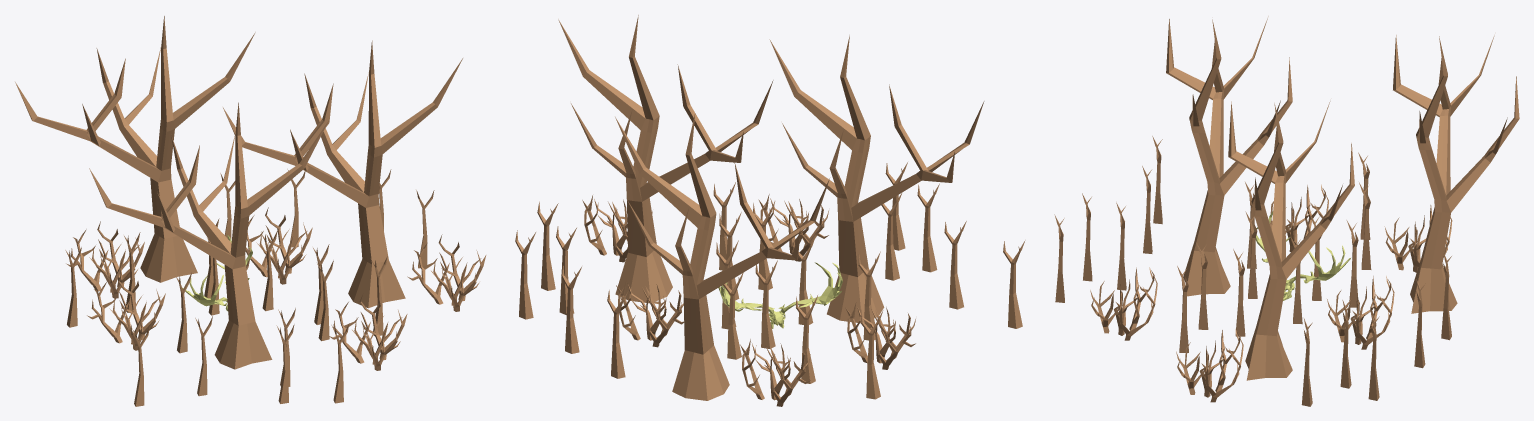
Rendered from DeforestationModel.glb.
3 renders of one model, left to right at view 1: azimuth 30°, elevation 25°; view 2: azimuth 150°, elevation 25°; view 3: azimuth 270°, elevation 25°, orthographic. The views are drawn at different scales.
Visible parts, largest first — view 1: Tree_average_bare, Tree_average_bare.001, Tree_average_bare.002, Bush_average_bare.004, Bush_average_bare.001, Bush_average_bare, Bush_average_bare.002, Bush_average_bare.003, antil_skull1, Tree_small_bare.003, Tree_small_bare.006, Tree_small_bare.002 (+7 smaller); view 2: Tree_average_bare.002, Tree_average_bare, Tree_average_bare.001, Bush_average_bare.002, Bush_average_bare.003, Bush_average_bare.001, antil_skull1, Bush_average_bare, Bush_average_bare.004, Tree_small_bare.017, Tree_small_bare.014, Tree_small_bare.010 (+15 smaller); view 3: Tree_average_bare.001, Tree_average_bare.002, Tree_average_bare, Bush_average_bare, Bush_average_bare.004, Bush_average_bare.003, Bush_average_bare.002, antil_skull1, Bush_average_bare.001, Tree_small_bare.001, Tree_small_bare.014, Tree_small_bare.004 (+14 smaller).
Boxes of the visible parts, x1,y1,x2,y2 form: Tree_average_bare: (89, 102, 329, 369); Tree_average_bare.001: (223, 40, 462, 308); Tree_average_bare.002: (15, 16, 255, 282); Bush_average_bare.004: (407, 234, 486, 311); Bush_average_bare.001: (87, 273, 165, 350); Bush_average_bare: (329, 293, 407, 370); Bush_average_bare.002: (66, 221, 144, 298); Bush_average_bare.003: (245, 207, 312, 284); antil_skull1: (182, 235, 252, 311); Tree_small_bare.003: (175, 272, 191, 353); Tree_small_bare.006: (65, 247, 81, 327); Tree_small_bare.002: (317, 260, 333, 341); Tree_average_bare.002: (615, 113, 829, 400); Tree_average_bare: (769, 35, 984, 323); Tree_average_bare.001: (558, 15, 773, 303); Bush_average_bare.002: (740, 339, 810, 406); Bush_average_bare.003: (616, 279, 684, 347); Bush_average_bare.001: (845, 302, 915, 369); antil_skull1: (718, 262, 842, 328); Bush_average_bare: (758, 194, 828, 261); Bush_average_bare.004: (582, 195, 652, 262); Tree_small_bare.017: (917, 183, 939, 272); Tree_small_bare.014: (537, 201, 558, 290); Tree_small_bare.010: (561, 265, 581, 353); Tree_average_bare.001: (1228, 101, 1354, 380); Tree_average_bare.002: (1393, 35, 1519, 313); Tree_average_bare: (1166, 16, 1292, 296); Bush_average_bare: (1090, 267, 1157, 340); Bush_average_bare.004: (1176, 329, 1243, 402); Bush_average_bare.003: (1327, 276, 1394, 349); Bush_average_bare.002: (1384, 205, 1452, 272); antil_skull1: (1254, 211, 1350, 300); Bush_average_bare.001: (1270, 184, 1328, 252); Tree_small_bare.001: (1233, 249, 1245, 336); Tree_small_bare.014: (1301, 318, 1312, 406); Tree_small_bare.004: (1245, 211, 1257, 298).
Bounding box in the file's own units: 22.2 × 14.3 × 22.45.
